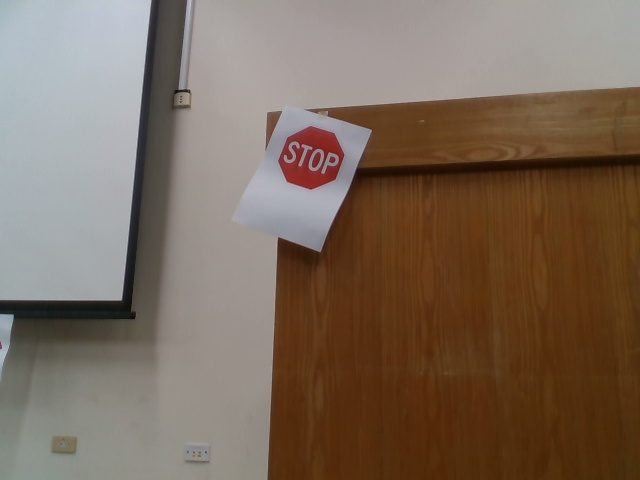stop: (275, 123, 347, 193)
